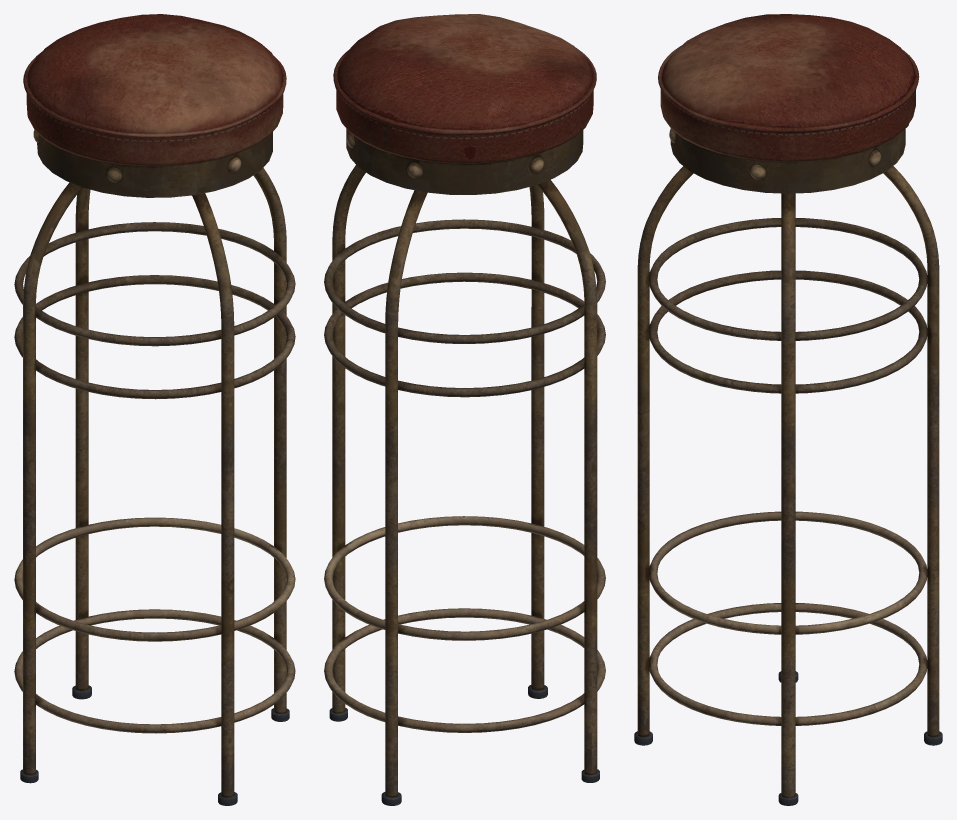
Rendered from metal_stool_01.optimized.glb.
3 renders of one model, left to right at view 1: azimuth 30°, elevation 25°; view 2: azimuth 150°, elevation 25°; view 3: azimuth 270°, elevation 25°, orthographic.
Visible parts, largest first — view 1: metal_stool_01; view 2: metal_stool_01; view 3: metal_stool_01.
Part boxes in pixels (left/top/right/bottom): metal_stool_01: left=14, top=14, right=295, bottom=805; metal_stool_01: left=324, top=14, right=605, bottom=805; metal_stool_01: left=634, top=14, right=942, bottom=805.
Bounding box in the file's own units: 0.352 × 0.8828 × 0.3546.
Materials: 1 (1 with a texture image).
